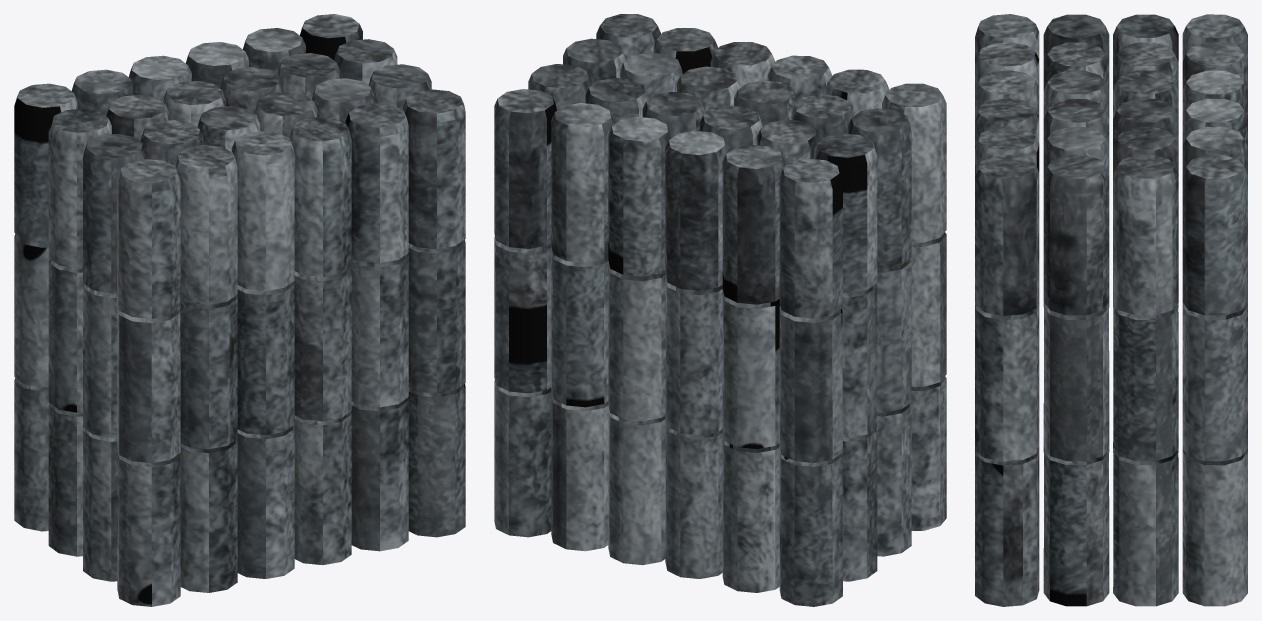
The model's file is store_85.obj.
3 renders of one model, left to right at view 1: azimuth 30°, elevation 25°; view 2: azimuth 150°, elevation 25°; view 3: azimuth 270°, elevation 25°, orthographic.
Bounding box in the file's own units: 26.5 × 31.37 × 18.19.
